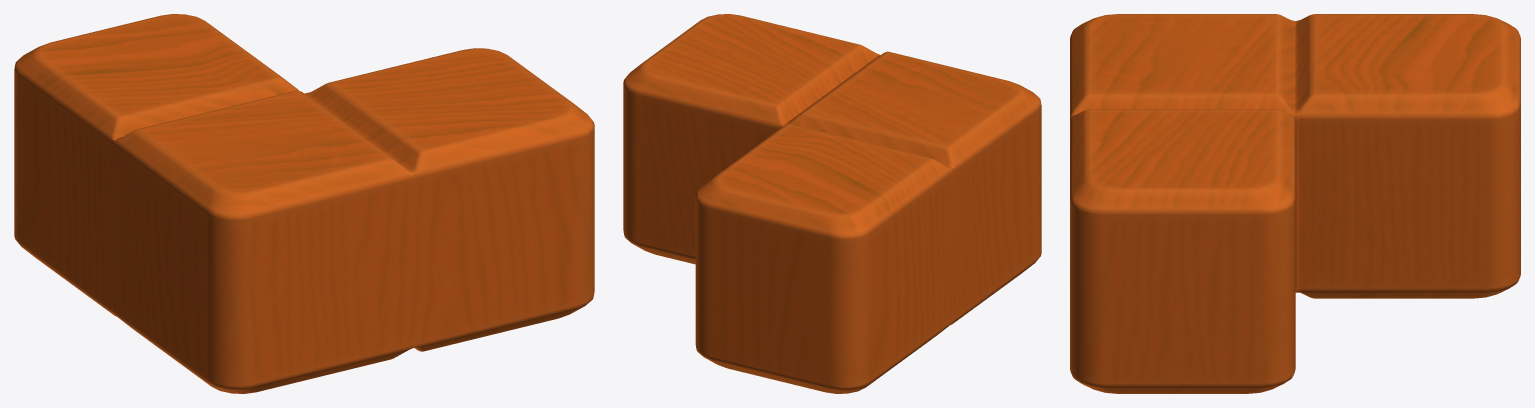
The model's file is Star_Block_02.fbx.
The picture shows the model from 3 angles, left to right: view 1: azimuth 30°, elevation 25°; view 2: azimuth 150°, elevation 25°; view 3: azimuth 270°, elevation 25°; orthographic projection. The views are drawn at different scales.
Parts seen in each view (by area): view 1: Star_Block_02; view 2: Star_Block_02; view 3: Star_Block_02.
Boxes of the visible parts, x1=… form: Star_Block_02: x1=14, y1=14, x2=594, y2=393; Star_Block_02: x1=623, y1=14, x2=1041, y2=393; Star_Block_02: x1=1070, y1=14, x2=1520, y2=393.
Size of the model in its own units: 2 by 1 by 2.
1 material, 1 textured.
